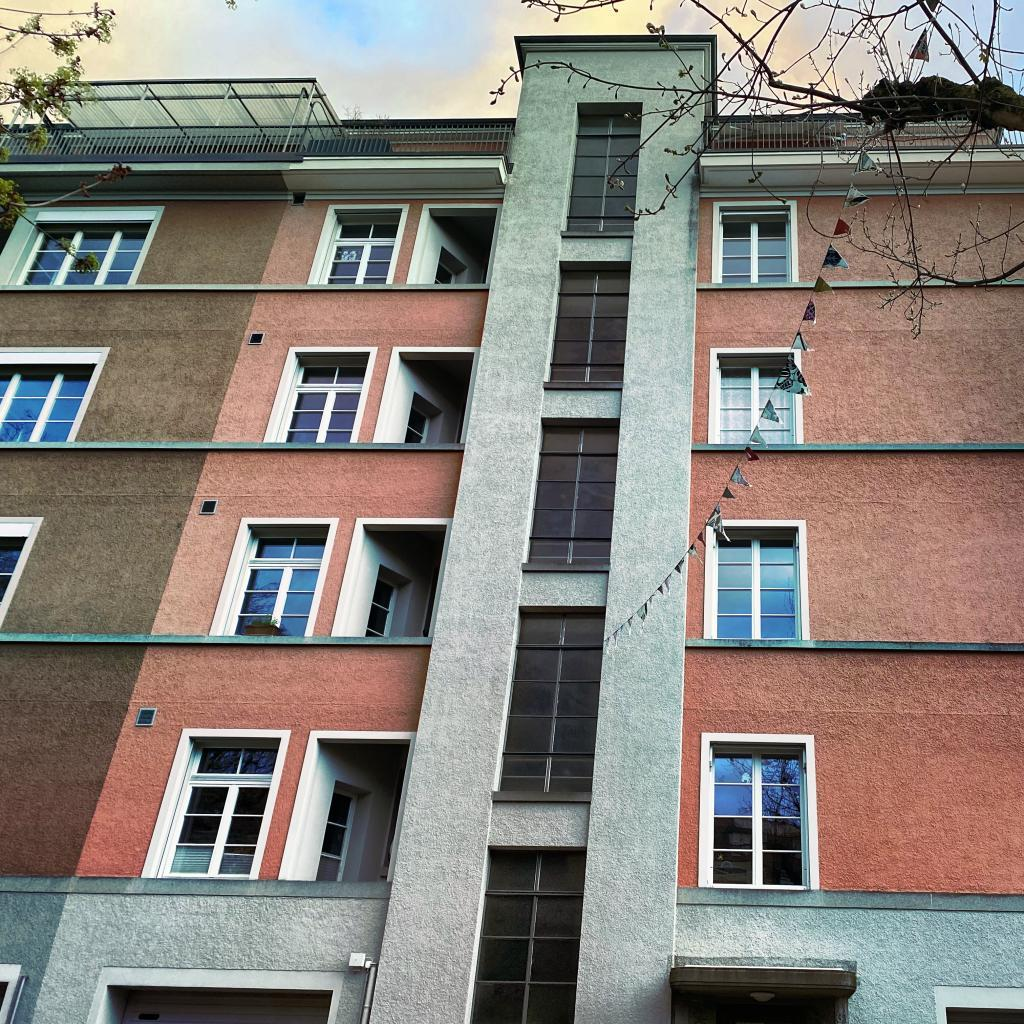balcony-fence: (0, 125, 517, 174), (704, 111, 1024, 153)
facade: (0, 33, 1024, 1024)
vegetation: (484, 0, 1024, 349), (0, 2, 138, 278)
window: (468, 843, 587, 1024), (496, 604, 607, 790), (152, 735, 283, 881), (710, 740, 811, 886), (525, 418, 619, 563), (218, 523, 332, 636), (715, 524, 803, 640), (547, 260, 631, 380), (567, 104, 642, 232), (273, 351, 372, 442), (12, 223, 153, 285), (0, 361, 97, 444), (717, 351, 799, 443), (315, 208, 403, 283), (719, 204, 793, 283), (315, 784, 361, 882), (364, 567, 403, 637), (0, 536, 29, 608), (403, 400, 432, 444), (434, 254, 458, 284)
